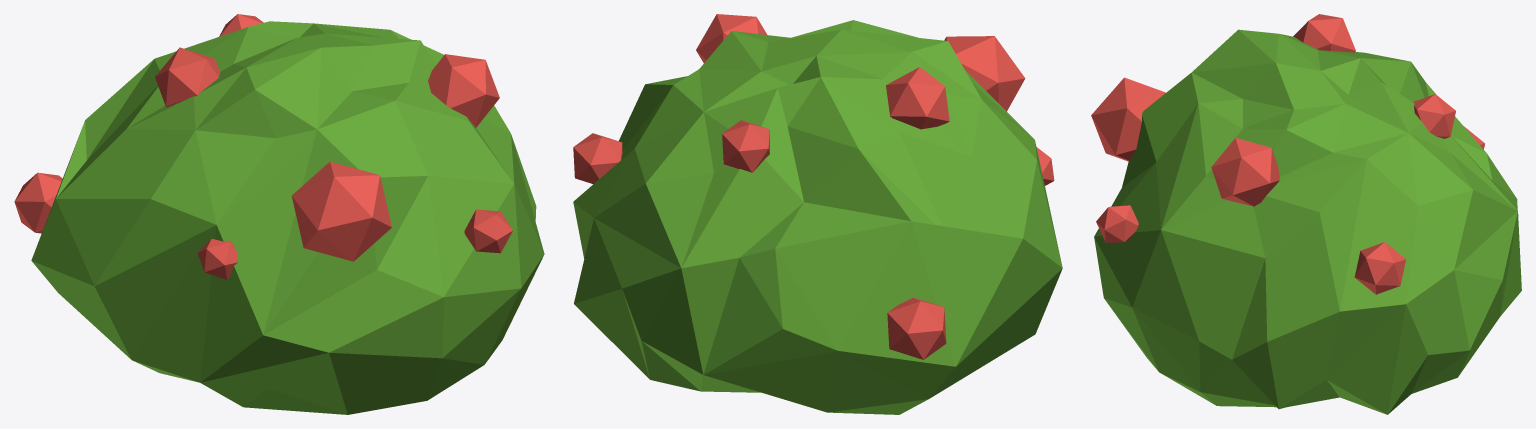
Rendered from bushes2.fbx.
3 views of the same model, side by side, from view 1: azimuth 30°, elevation 25°; view 2: azimuth 150°, elevation 25°; view 3: azimuth 270°, elevation 25° (orthographic). The views are drawn at different scales.
Visible parts, largest first — view 1: Sphere.001; view 2: Sphere.001; view 3: Sphere.001.
Part boxes in pixels (bbox=[...]): Sphere.001: bbox=[14, 14, 544, 414]; Sphere.001: bbox=[573, 14, 1062, 414]; Sphere.001: bbox=[1091, 14, 1521, 414].
Size of the model in its own units: 221 by 162 by 209.
